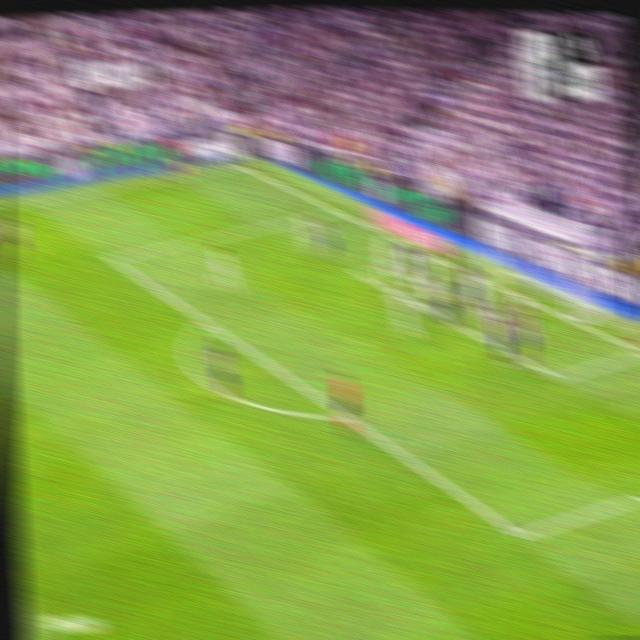bigarea_bottom_inner: (506, 516, 532, 555)
bigarea_top_inner: (104, 247, 122, 270)
corner: (229, 157, 250, 173)
smallarea_bottom_inner: (548, 363, 568, 390)
smallarea_bottom_outter: (632, 338, 640, 364)
smallarea_top_inner: (351, 264, 368, 282)
top_arc_area_intersection: (197, 310, 215, 332)
